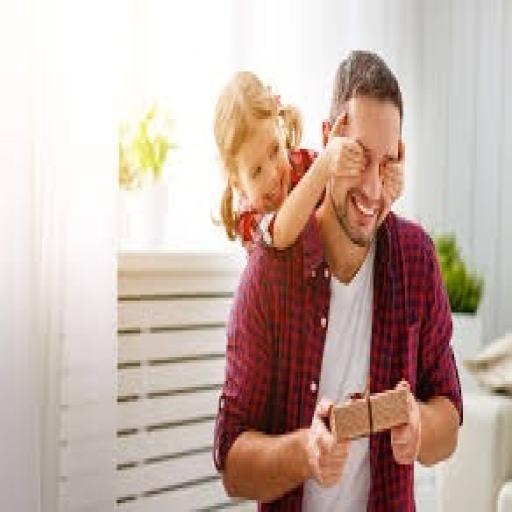hugging: (210, 48, 464, 509)
